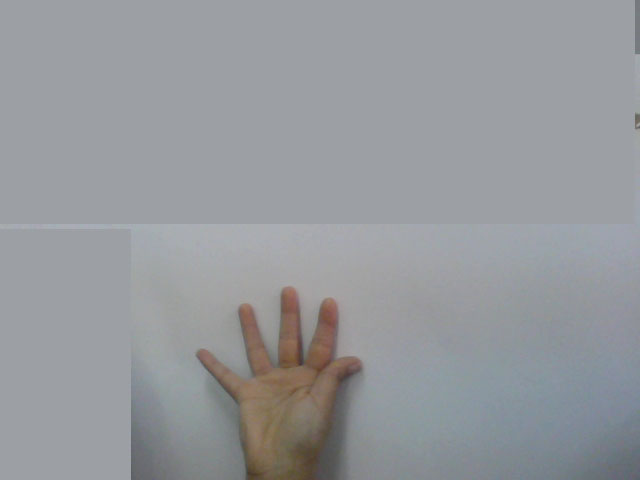hand: (189, 273, 374, 463)
